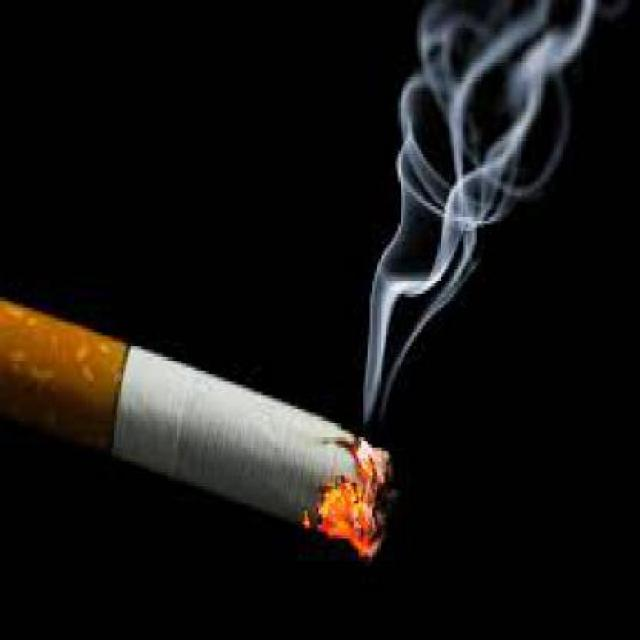cigarette: (1, 297, 422, 563)
